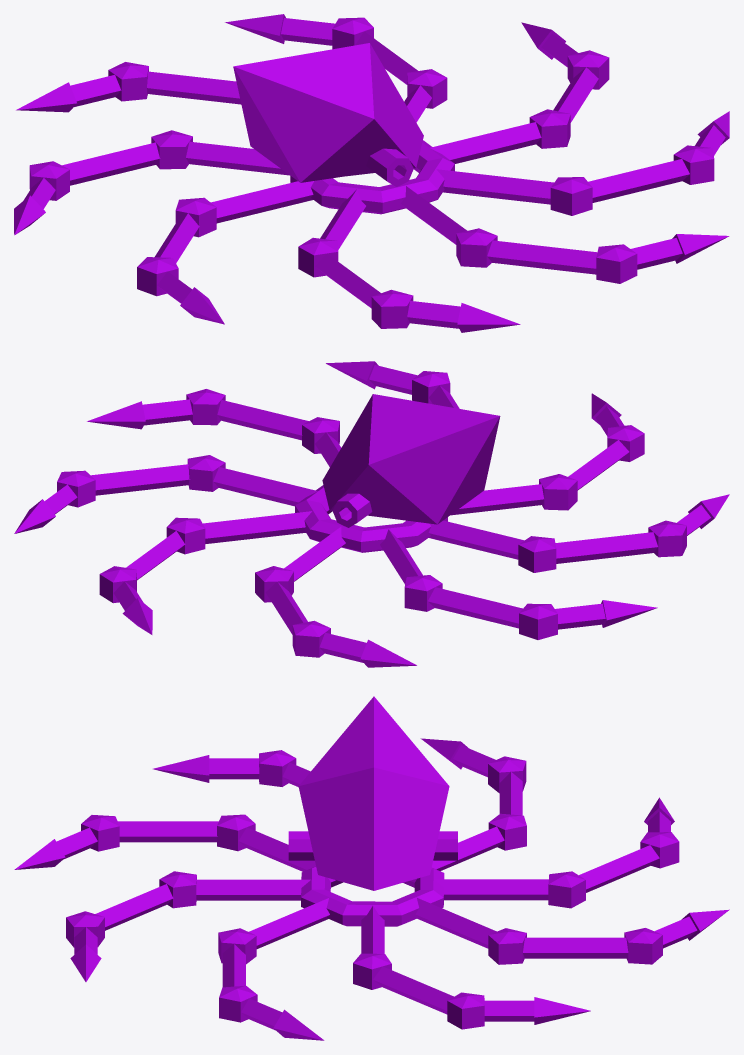
File: octo.fbx
3 views of the same model, one above another, from view 1: azimuth 30°, elevation 25°; view 2: azimuth 150°, elevation 25°; view 3: azimuth 270°, elevation 25° (orthographic). The views are drawn at different scales.
Visible parts, largest first — view 1: pSphere3; view 2: pSphere3; view 3: pSphere3.
Part boxes in pixels (x1=…): pSphere3: x1=14, y1=14, x2=729, y2=332; pSphere3: x1=14, y1=361, x2=729, y2=667; pSphere3: x1=14, y1=696, x2=729, y2=1040.
Size of the model in its own units: 21.31 by 4.78 by 21.32.
